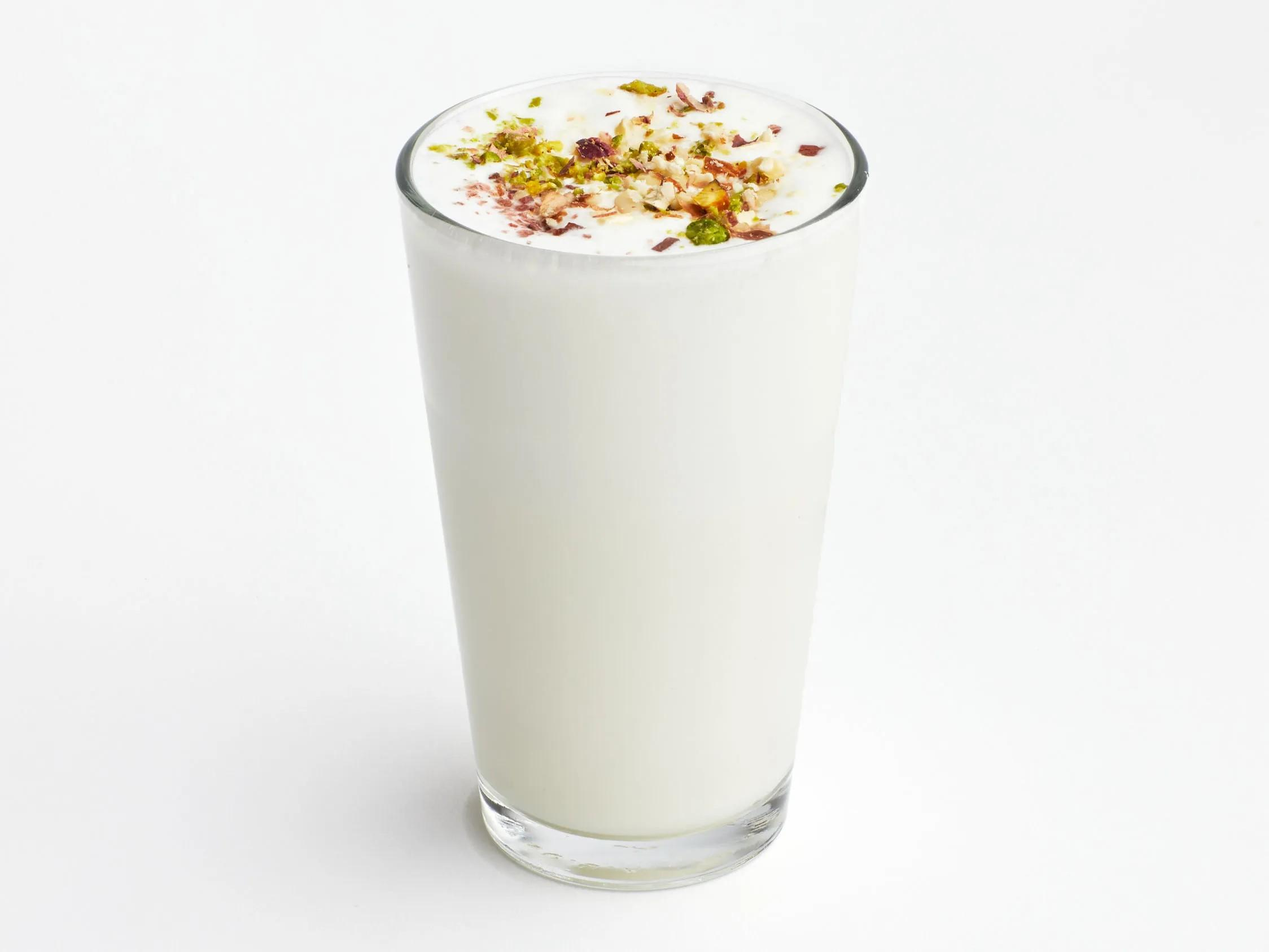Lassi: (408, 77, 856, 840)
